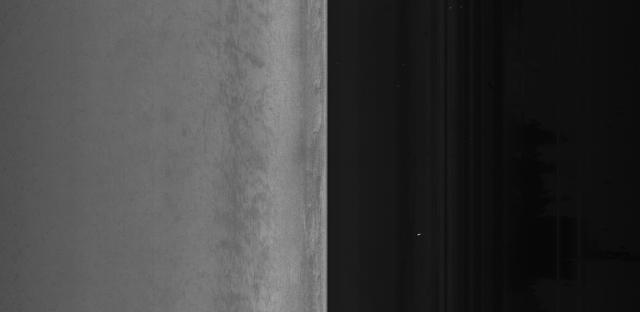silk_spot: (217, 113, 266, 206)
